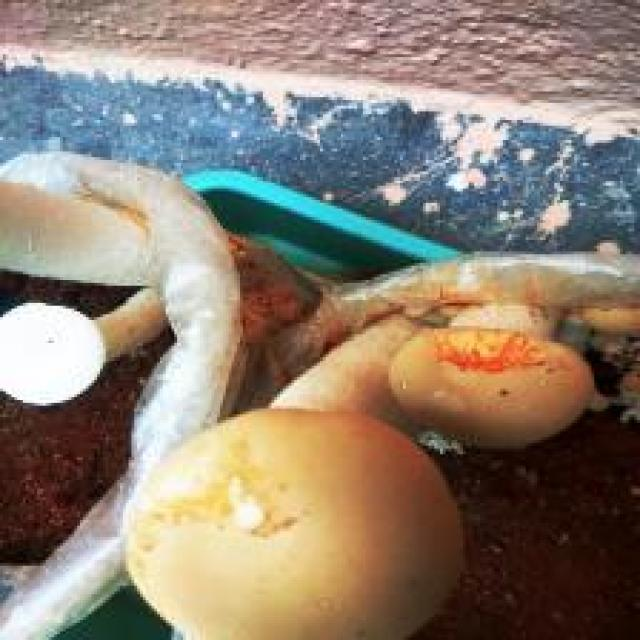field-mushroom: (120, 403, 466, 637)
